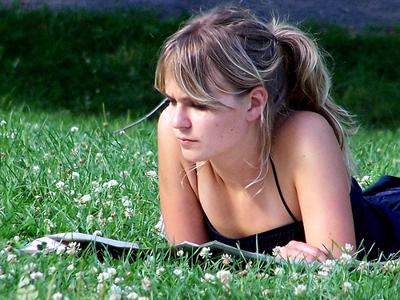person: (153, 6, 400, 266)
